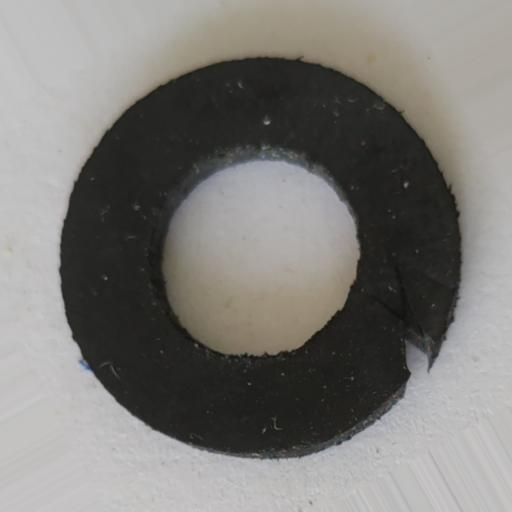defect: (398, 320, 433, 380)
